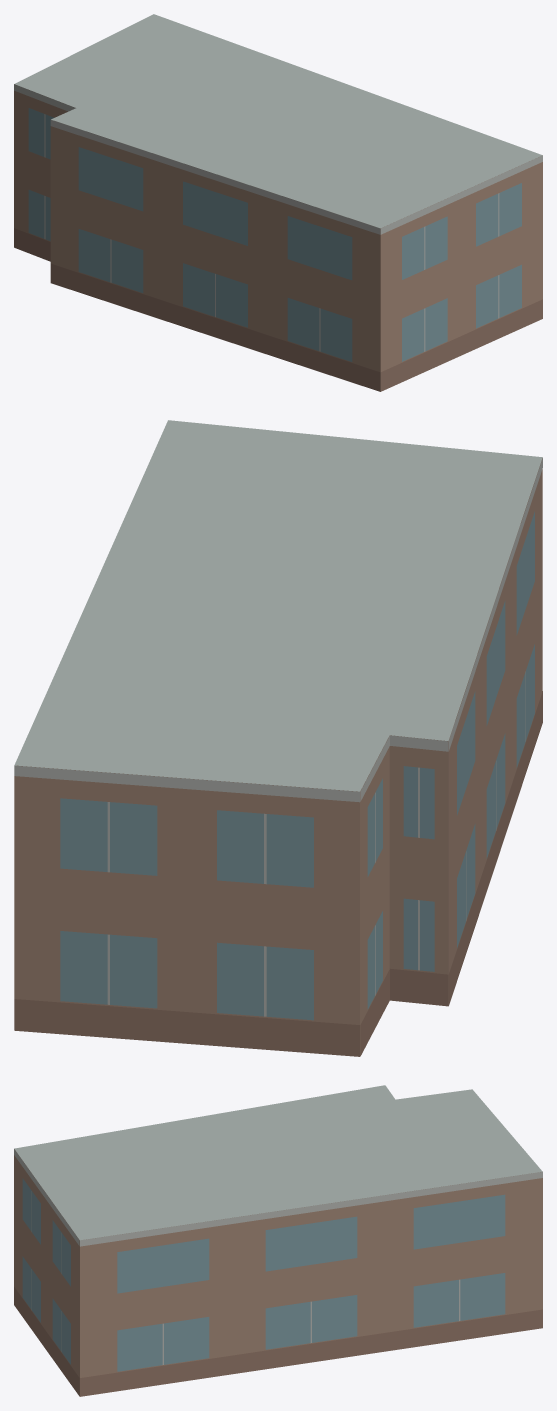
File: survey-upis-32477257.glb
The picture shows the model from 3 angles, top to bottom: view 1: azimuth 30°, elevation 25°; view 2: azimuth 150°, elevation 25°; view 3: azimuth 270°, elevation 25°; orthographic projection. The views are drawn at different scales.
Parts seen in each view (by area): view 1: survey-upis-32477257.tmp; view 2: survey-upis-32477257.tmp; view 3: survey-upis-32477257.tmp.
Boxes of the visible parts, x1,y1,x2,y2 form: survey-upis-32477257.tmp: (14, 14, 542, 391); survey-upis-32477257.tmp: (14, 420, 542, 1056); survey-upis-32477257.tmp: (14, 1085, 542, 1396).
Bounding box in the file's own units: 12.99 × 6.1 × 18.69.
